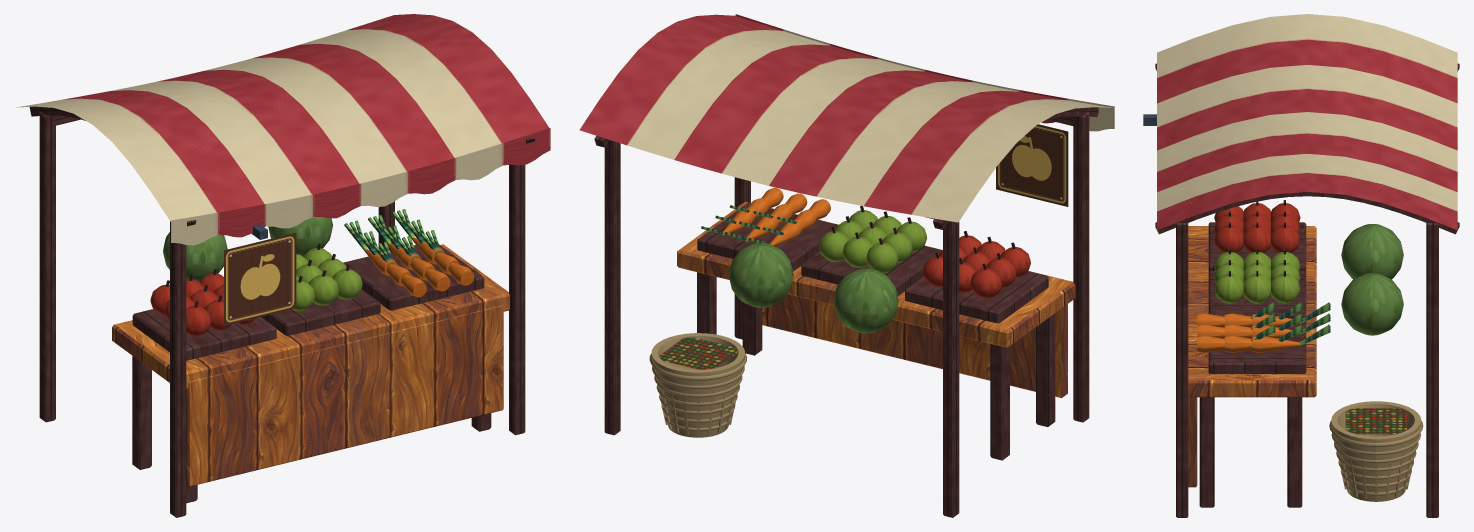
Rendered from Produce_Stall.fbx.
3 renders of one model, left to right at view 1: azimuth 30°, elevation 25°; view 2: azimuth 150°, elevation 25°; view 3: azimuth 270°, elevation 25°, orthographic. The views are drawn at different scales.
Parts seen in each view (by area): view 1: Draped stitched awning.007, Counter front.007, Scalloped canvas hem.007, Counter top.007, Painted shop sign.007, Canopy post.029, Canopy post.028, Canopy post.030, Display tray.021, Display tray.023, Display tray.022, Counter leg.029 (+5 smaller); view 2: Draped stitched awning.007, Counter front.007, Counter top.007, Canopy post.028, Canopy post.029, Canopy post.031, Painted shop sign.007, Woven basket body.006, Leafy cabbage, Leafy cabbage.001, Display tray.021, Display tray.023 (+12 smaller); view 3: Draped stitched awning.007, Counter top.007, Woven basket body.006, Canopy post.030, Canopy post.031, Leafy cabbage.001, Leafy cabbage, Display tray.023, Counter leg.030, Counter leg.031, Display tray.022, Basket goods.002 (+12 smaller).
Boxes of the visible parts, x1,y1,x2,y2 form: Draped stitched awning.007: (16, 14, 549, 221); Counter front.007: (186, 305, 503, 486); Scalloped canvas hem.007: (171, 128, 550, 245); Counter top.007: (112, 244, 509, 388); Painted shop sign.007: (224, 233, 296, 325); Canopy post.029: (39, 111, 55, 422); Canopy post.028: (170, 221, 186, 517); Canopy post.030: (509, 164, 525, 435); Display tray.021: (132, 309, 276, 360); Display tray.023: (343, 241, 484, 310); Display tray.022: (261, 289, 380, 335); Counter leg.029: (132, 356, 151, 469); Draped stitched awning.007: (579, 14, 1113, 222); Counter front.007: (762, 294, 1067, 397); Counter top.007: (677, 202, 1075, 347); Canopy post.028: (1073, 112, 1089, 422); Canopy post.029: (943, 221, 959, 517); Canopy post.031: (604, 140, 620, 435); Painted shop sign.007: (996, 124, 1068, 206); Woven basket body.006: (651, 333, 744, 437); Leafy cabbage: (833, 268, 898, 333); Leafy cabbage.001: (728, 243, 793, 307); Display tray.021: (905, 271, 1048, 323); Display tray.023: (697, 203, 837, 271); Draped stitched awning.007: (1157, 14, 1457, 230); Counter top.007: (1188, 226, 1316, 397); Woven basket body.006: (1331, 401, 1421, 501); Canopy post.030: (1176, 223, 1188, 517); Canopy post.031: (1426, 223, 1438, 517); Leafy cabbage.001: (1341, 273, 1403, 335); Leafy cabbage: (1341, 224, 1403, 279); Display tray.023: (1208, 321, 1306, 373); Counter leg.030: (1199, 397, 1214, 507); Counter leg.031: (1287, 397, 1302, 507); Display tray.022: (1208, 271, 1306, 318); Basket goods.002: (1345, 408, 1406, 434).
Bounding box in the file's own units: 336 × 294 × 253.
